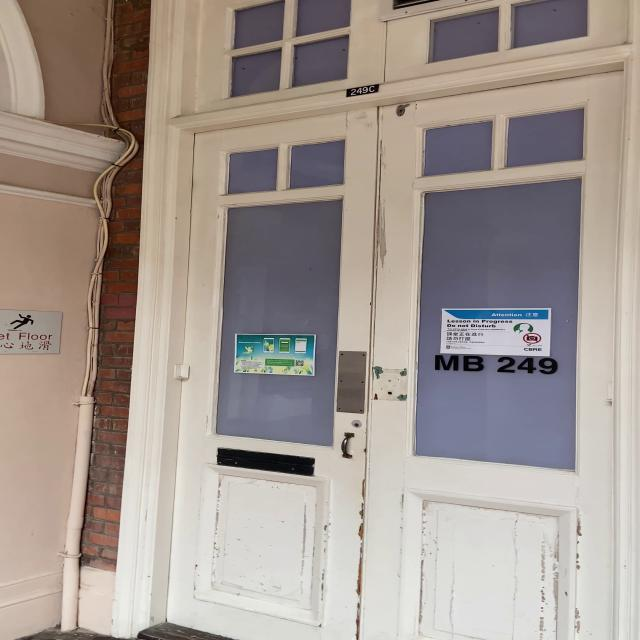room249c: (341, 80, 382, 100)
room249cWindow: (425, 350, 566, 377)
